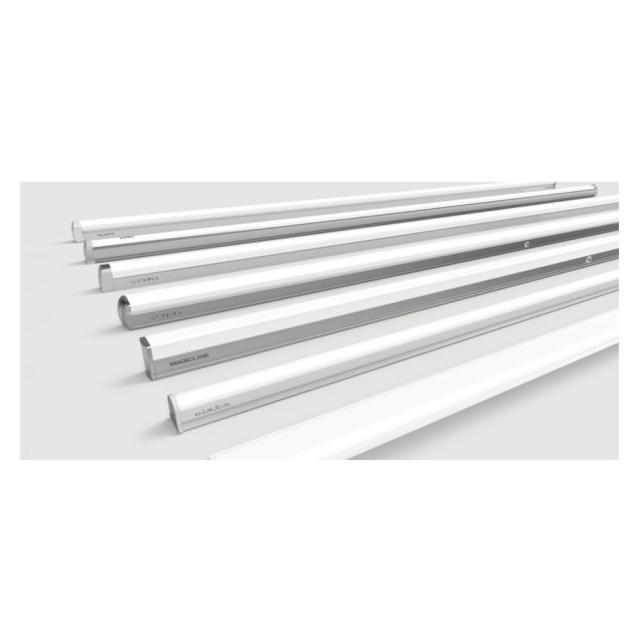tubelight_off: (159, 265, 625, 440), (137, 232, 625, 383), (197, 305, 625, 465), (108, 205, 621, 335), (100, 192, 632, 292), (80, 177, 602, 262), (67, 181, 563, 244)
